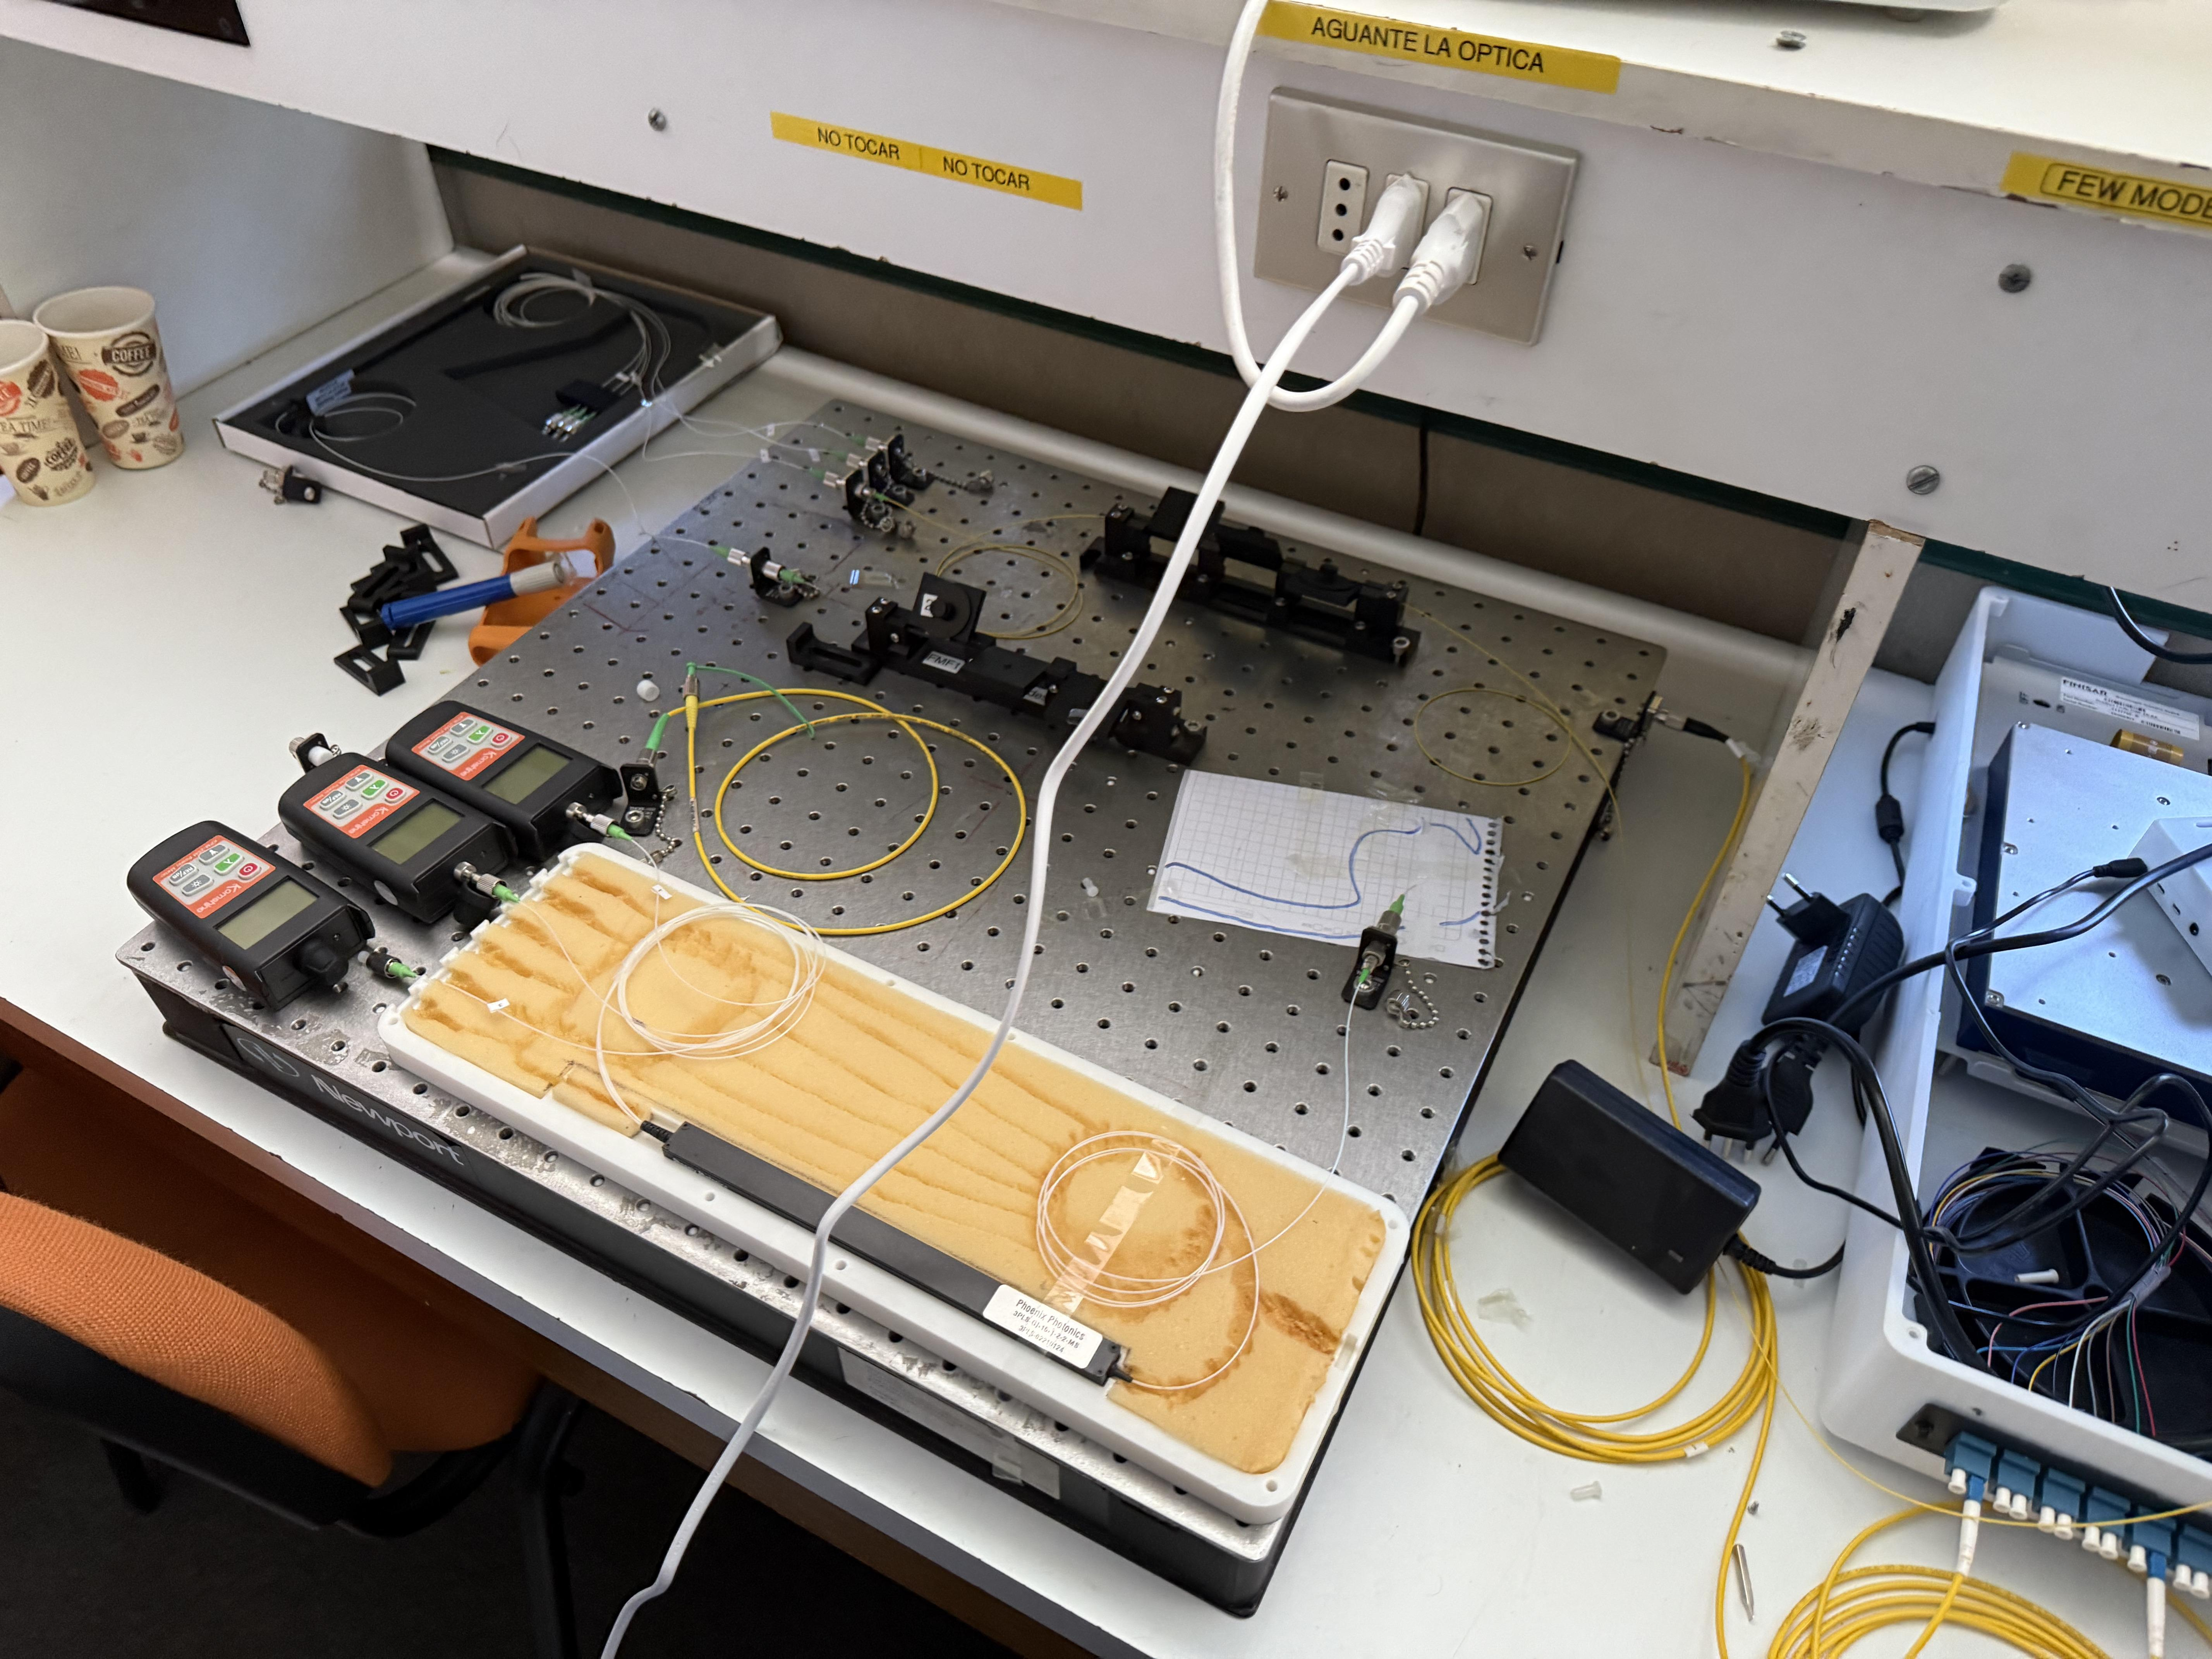powermeter: (105, 807, 385, 1026), (261, 747, 538, 927), (372, 697, 635, 858)
